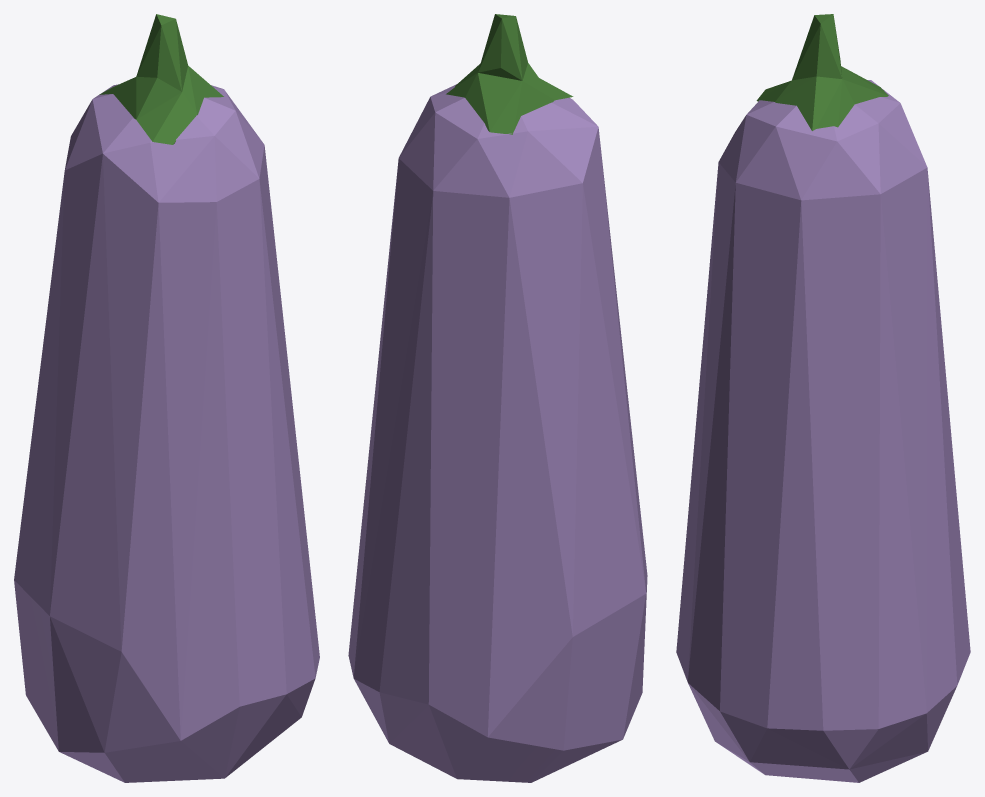
File: Eggplant_01.fbx
3 renders of one model, left to right at view 1: azimuth 30°, elevation 25°; view 2: azimuth 150°, elevation 25°; view 3: azimuth 270°, elevation 25°, orthographic.
Parts seen in each view (by area): view 1: Eggplant_01; view 2: Eggplant_01; view 3: Eggplant_01.
Boxes of the visible parts, box(x1,y1,x2,y2) form: Eggplant_01: box(14, 14, 319, 782); Eggplant_01: box(348, 14, 647, 782); Eggplant_01: box(676, 14, 970, 782).
Size of the model in its own units: 7.84 by 20.8 by 7.55.
